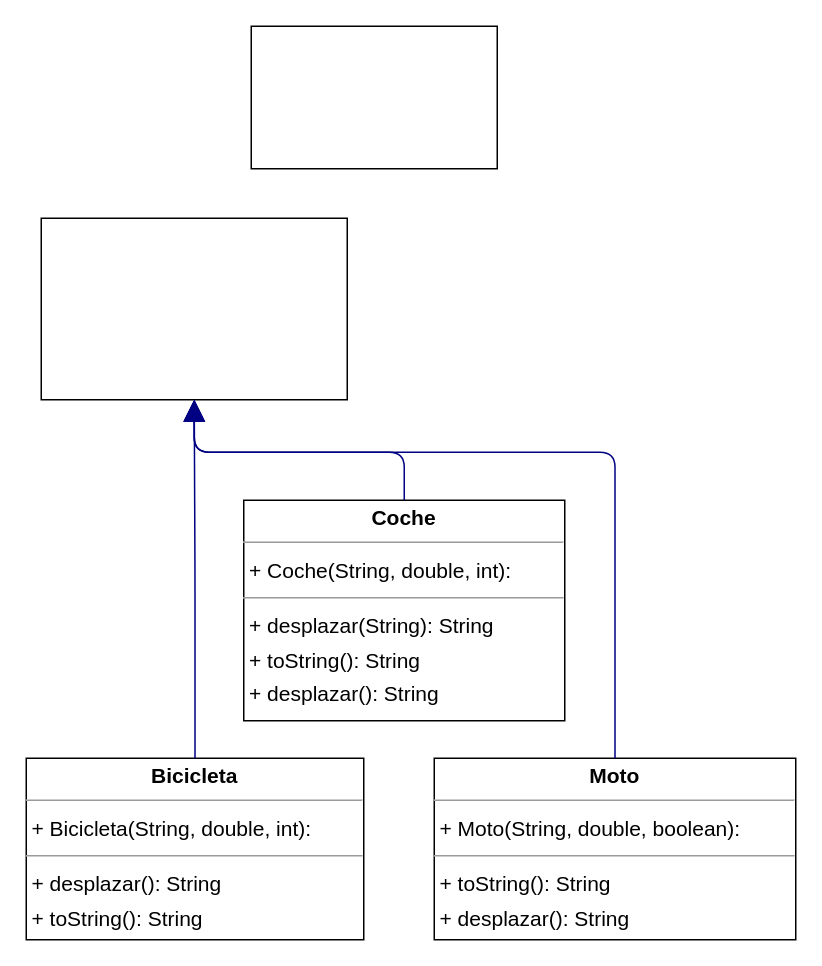
Some shapes in this 822 by 966 pixel diagram are drawn without their labels. Each missing label, with the box of its shape:
Main + Main(): + main(String[]): void: (250, 25, 497, 169)
Vehiculo + Vehiculo(String, double): + toString(): String + desplazar(): String: (40, 217, 347, 400)
